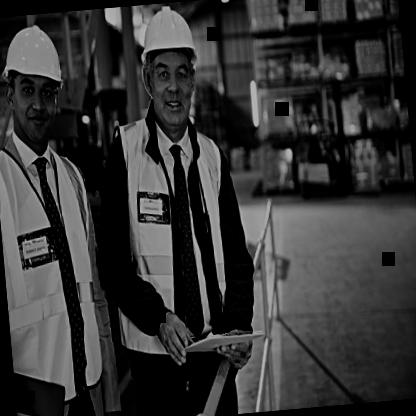helmet: (128, 1, 212, 139), (0, 19, 83, 151)
